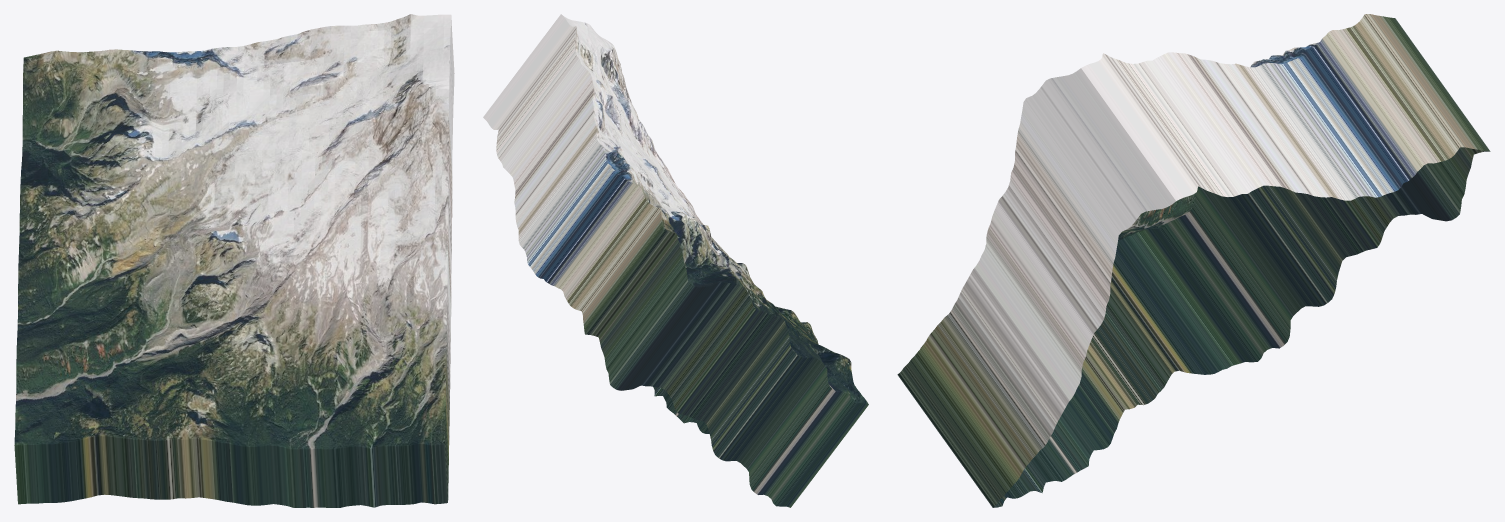
3 renders of one model, left to right at view 1: azimuth 30°, elevation 25°; view 2: azimuth 150°, elevation 25°; view 3: azimuth 270°, elevation 25°, orthographic. The views are drawn at different scales.
Size of the model in its own units: 9985 by 9620 by 10859.
1 material, 1 textured.
